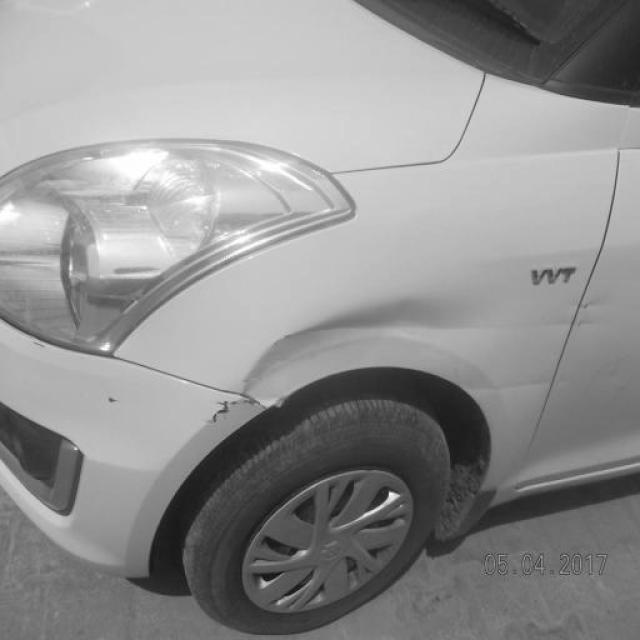dent: (239, 303, 453, 406)
scratch: (462, 355, 630, 394), (447, 296, 603, 336), (209, 396, 263, 429), (106, 393, 121, 409)
